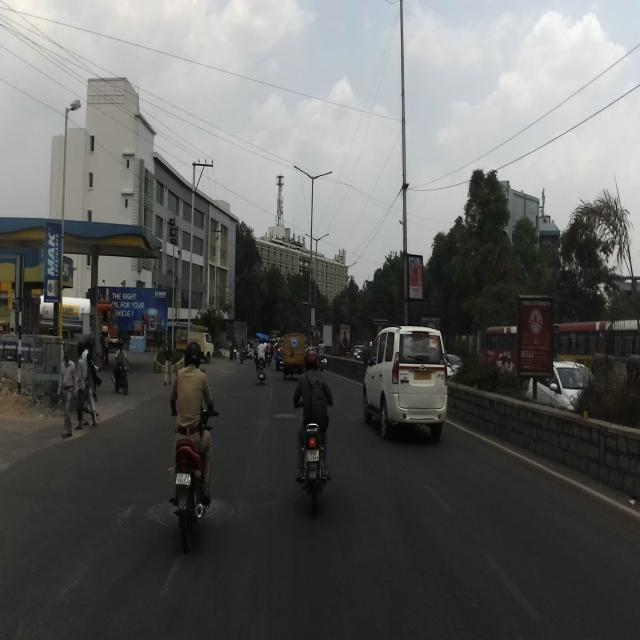Car_Mahindra: (363, 326, 447, 440)
motorcycle_Hero: (168, 408, 218, 552), (293, 397, 333, 516)
motorcycle_bajaj: (112, 358, 129, 395)
scooter: (256, 352, 266, 386)
